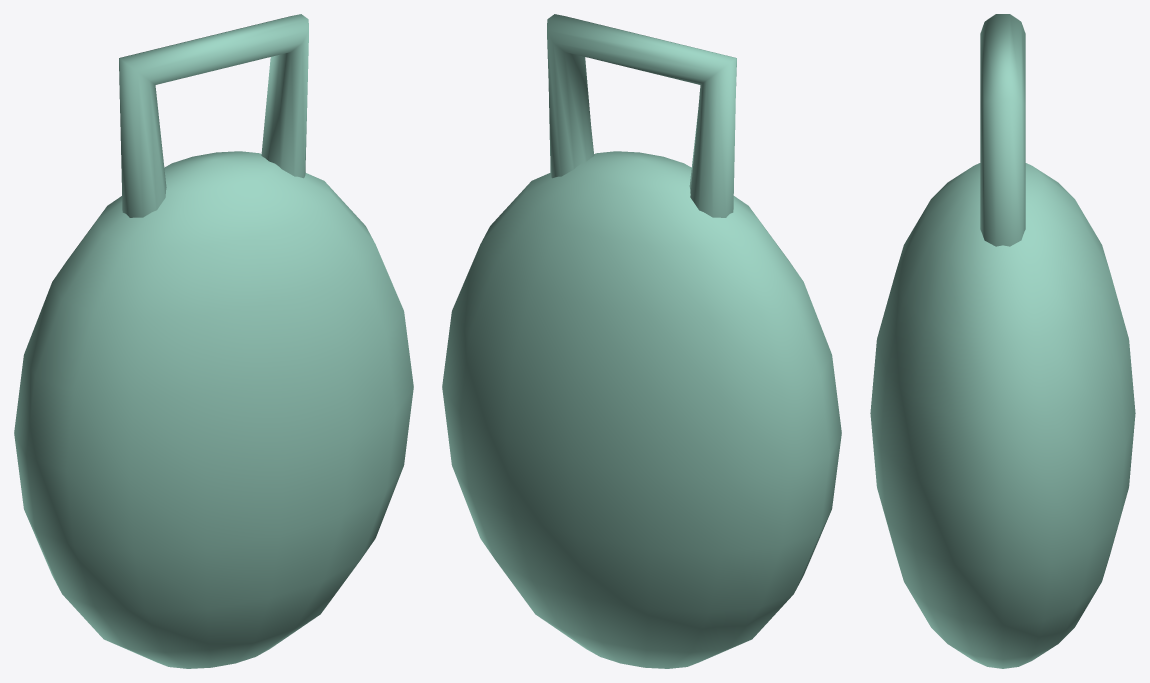
Rendered from cleanup-bag.glb.
3 renders of one model, left to right at view 1: azimuth 30°, elevation 25°; view 2: azimuth 150°, elevation 25°; view 3: azimuth 270°, elevation 25°, orthographic. The views are drawn at different scales.
Visible parts, largest first — view 1: bag, tied handle; view 2: bag, tied handle; view 3: bag, tied handle.
Boxes of the visible parts, x1,y1,x2,y2 form: bag: [14, 151, 413, 668]; tied handle: [119, 14, 308, 217]; bag: [442, 151, 841, 668]; tied handle: [547, 14, 736, 217]; bag: [870, 163, 1135, 668]; tied handle: [980, 14, 1025, 246].
Size of the model in its own units: 0.22 by 0.3478 by 0.14.
